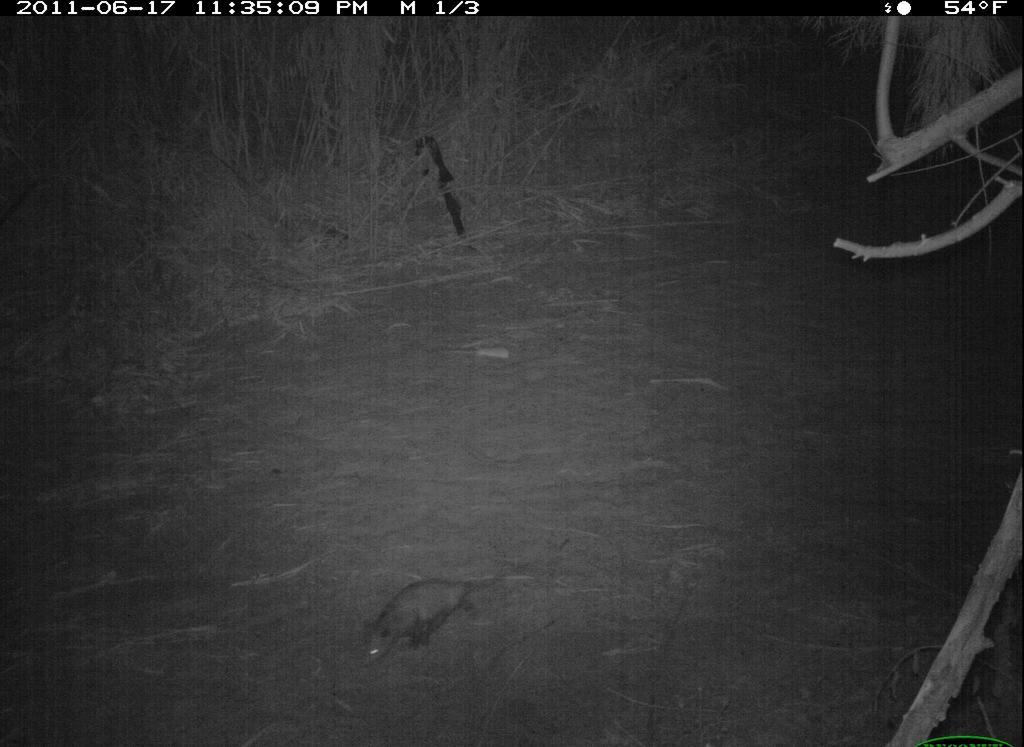opossum: (350, 566, 518, 674)
